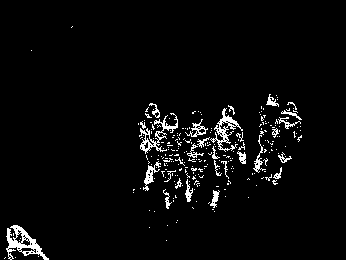person: (206, 105, 247, 212), (181, 110, 211, 204), (273, 100, 303, 186), (159, 112, 184, 209), (137, 99, 162, 192), (253, 92, 276, 173)
